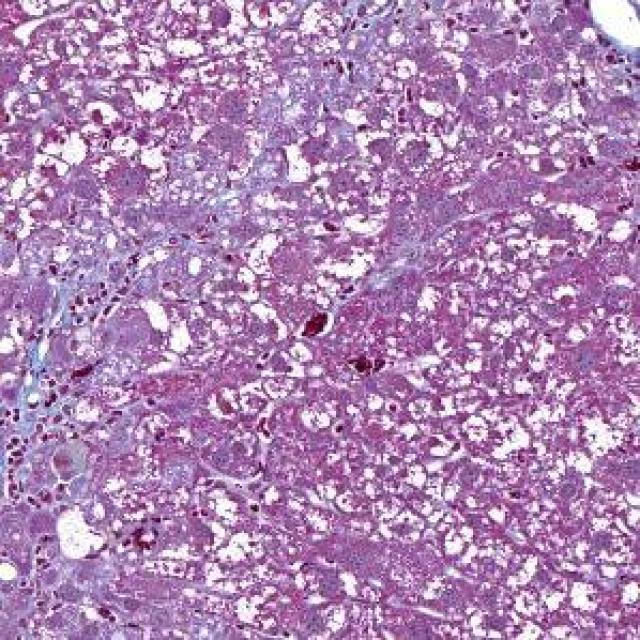fibrosis: (23, 323, 120, 501)
